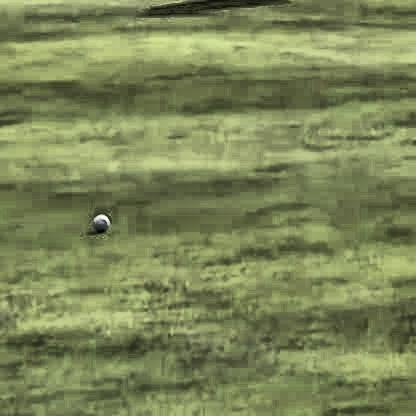golfball: (90, 210, 108, 229)
